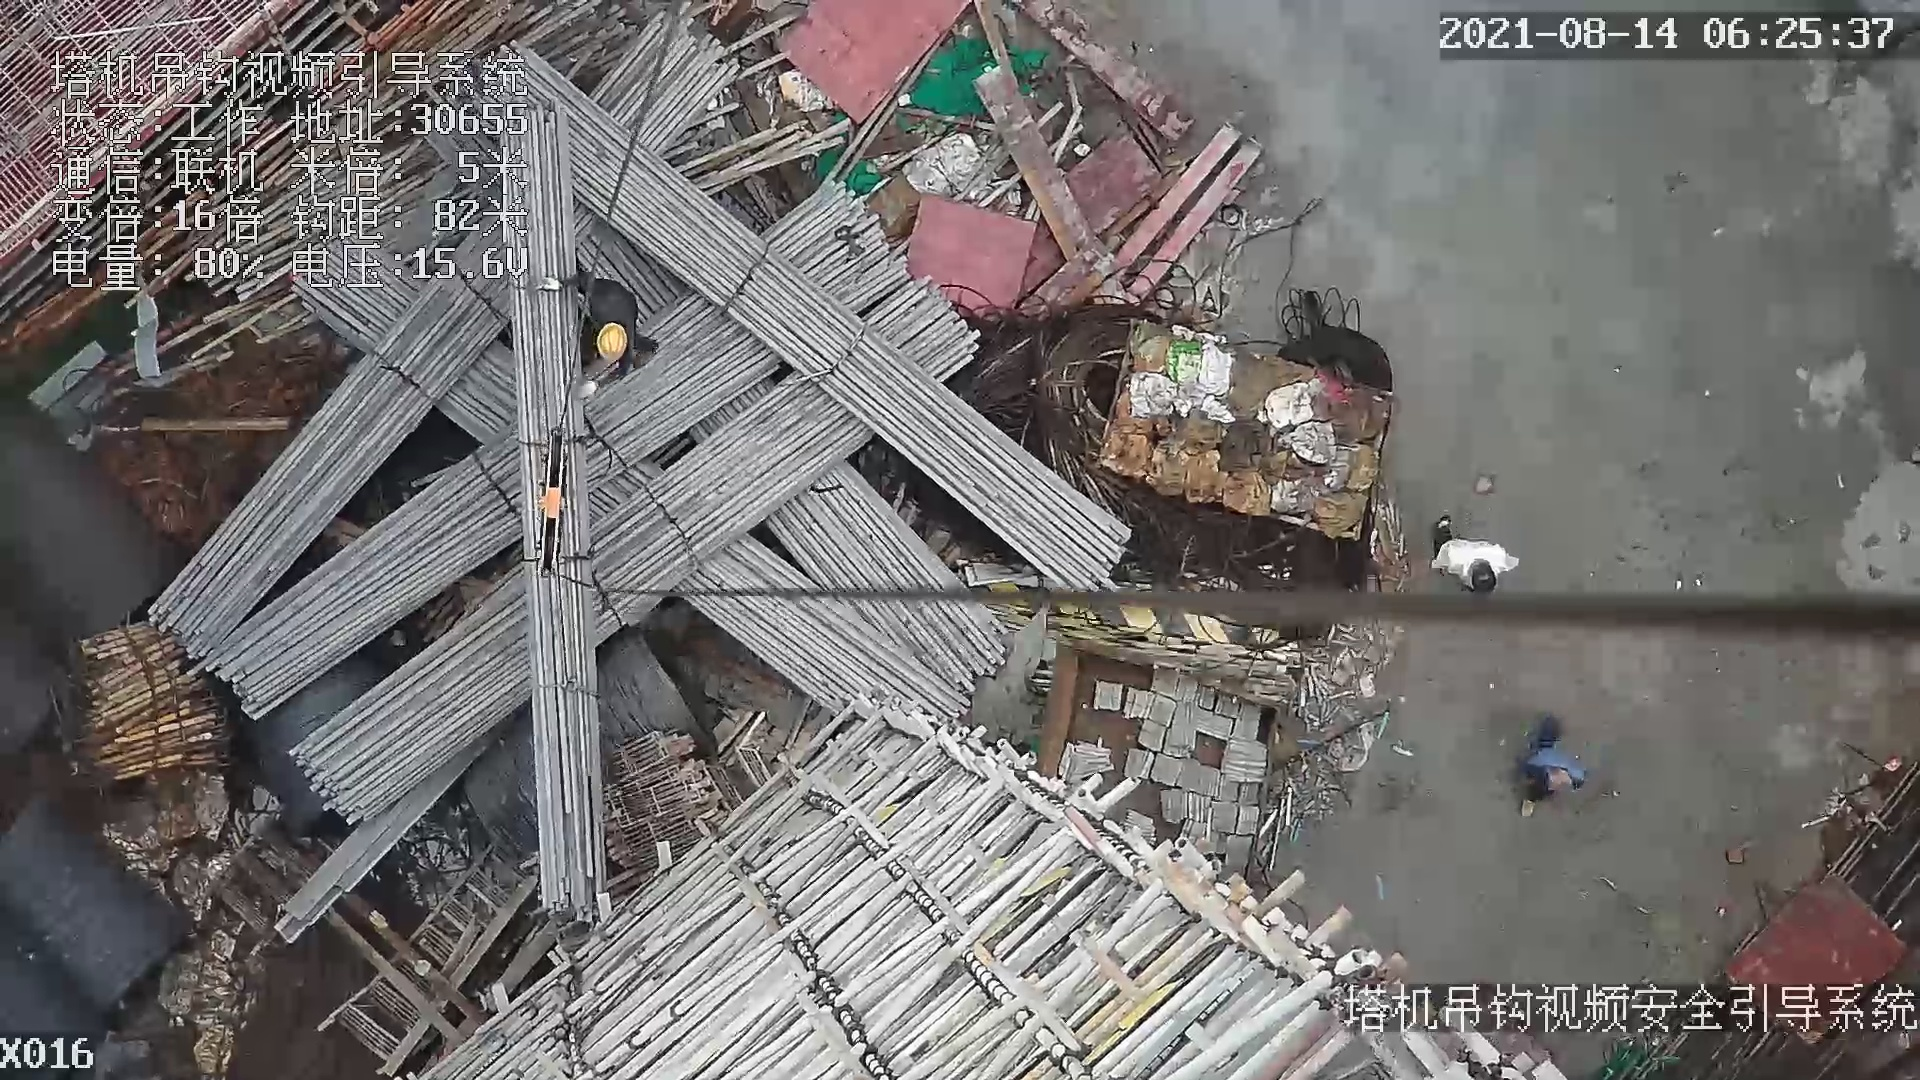helmet: (597, 315, 629, 369)
hook: (537, 422, 574, 582)
person: (536, 268, 664, 396), (1426, 521, 1519, 590), (1526, 717, 1586, 817)
